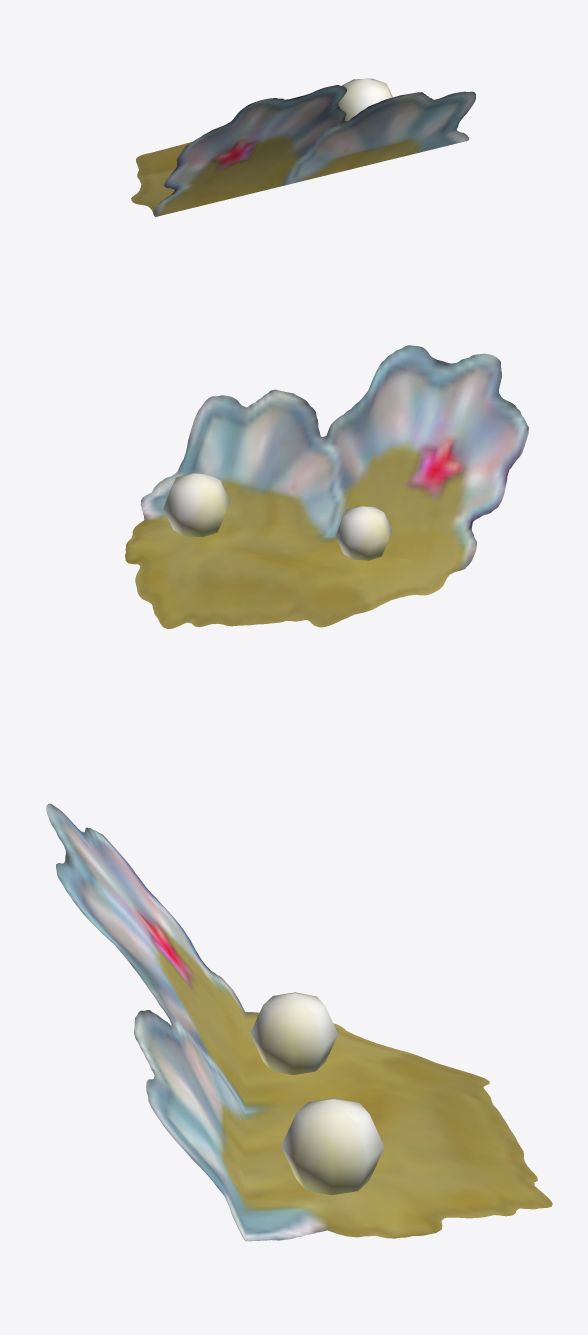
The model's file is Battle05_Other_017.FBX.
The picture shows the model from 3 angles, top to bottom: view 1: azimuth 30°, elevation 25°; view 2: azimuth 150°, elevation 25°; view 3: azimuth 270°, elevation 25°; orthographic projection. The views are drawn at different scales.
Parts seen in each view (by area): view 1: Battle05_Other_017; view 2: Battle05_Other_017; view 3: Battle05_Other_017.
Part boxes in pixels (bbox=[...]): Battle05_Other_017: bbox=[131, 78, 475, 216]; Battle05_Other_017: bbox=[125, 345, 528, 628]; Battle05_Other_017: bbox=[46, 803, 552, 1241].
Bounding box in the file's own units: 3.48 × 1.91 × 3.01.
